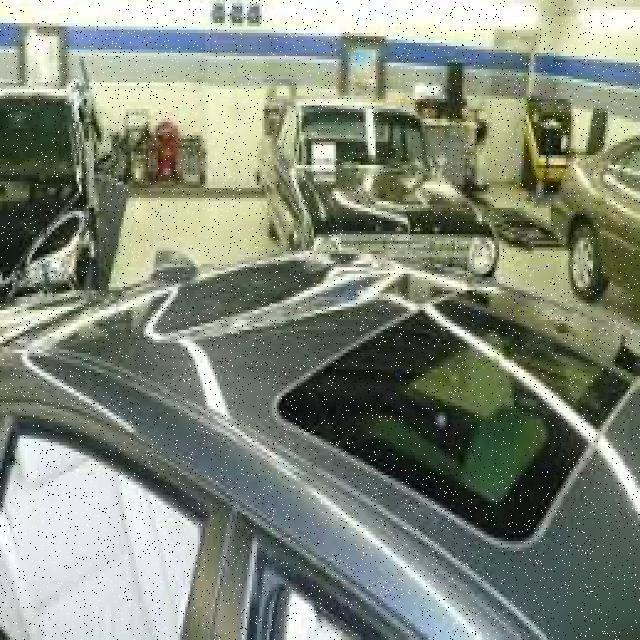roof-dent: (44, 247, 464, 448)
